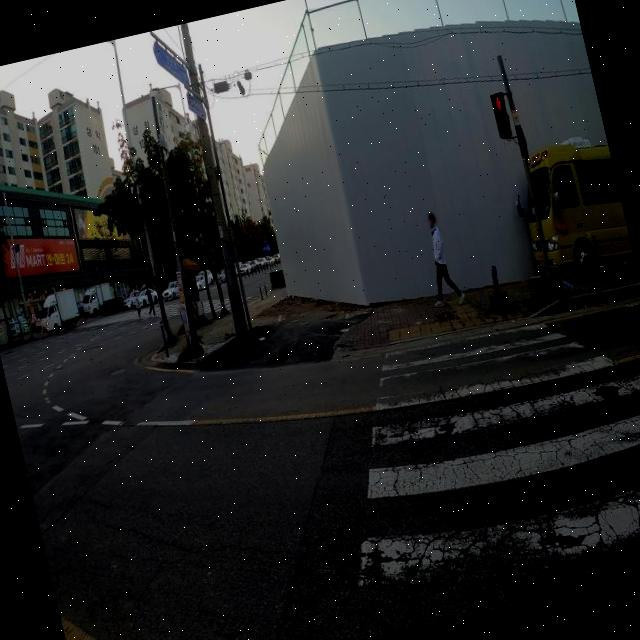crosswalk: (358, 319, 640, 637), (74, 297, 259, 327)
